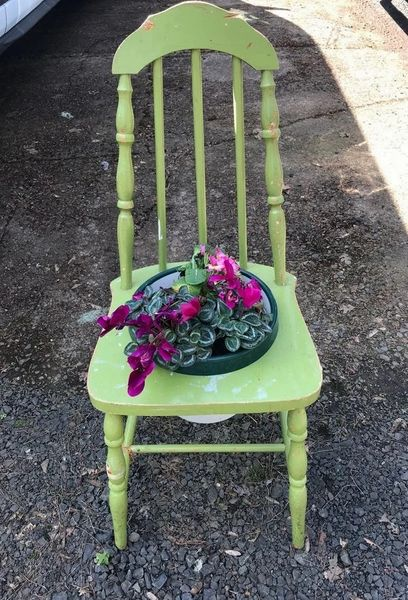chair: (74, 2, 340, 566)
